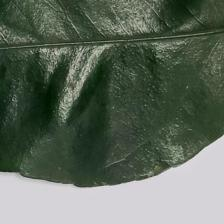healthy: (2, 5, 224, 181)
